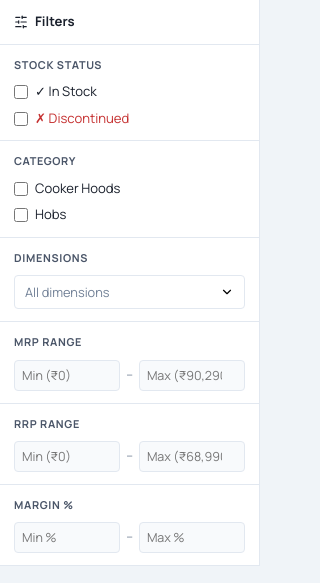
FilterSidebar › filters dimension options via search
The image size is (320, 583).
Step 1. Click the button "All dimensions" → (130, 292), box top-left (14, 275), bottom-right (245, 309)
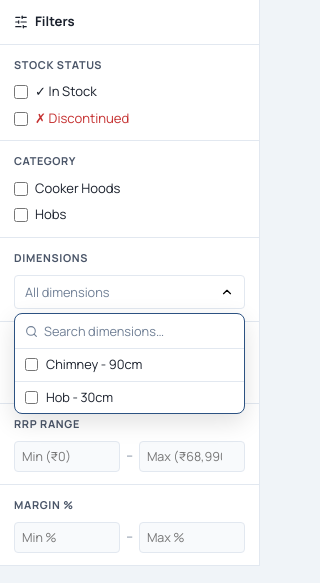
Step 2. Type "chimney" into the field with placeholder "Search dimensions…" → (139, 331), box top-left (44, 322), bottom-right (234, 340)
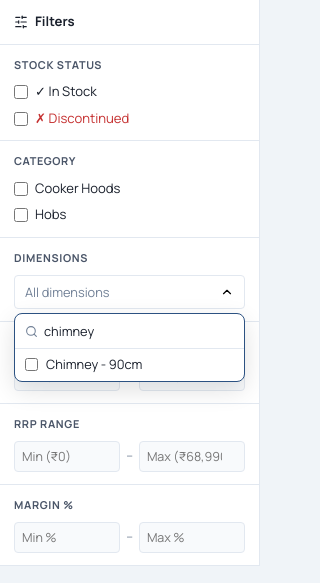
Expected: the text "Chimney - 90cm" is shown, top-left (46, 355), bottom-right (142, 375)
Expected: the option "Hob - 30cm" is gone
